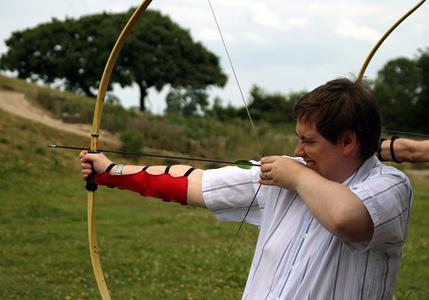person: (77, 75, 410, 298)
